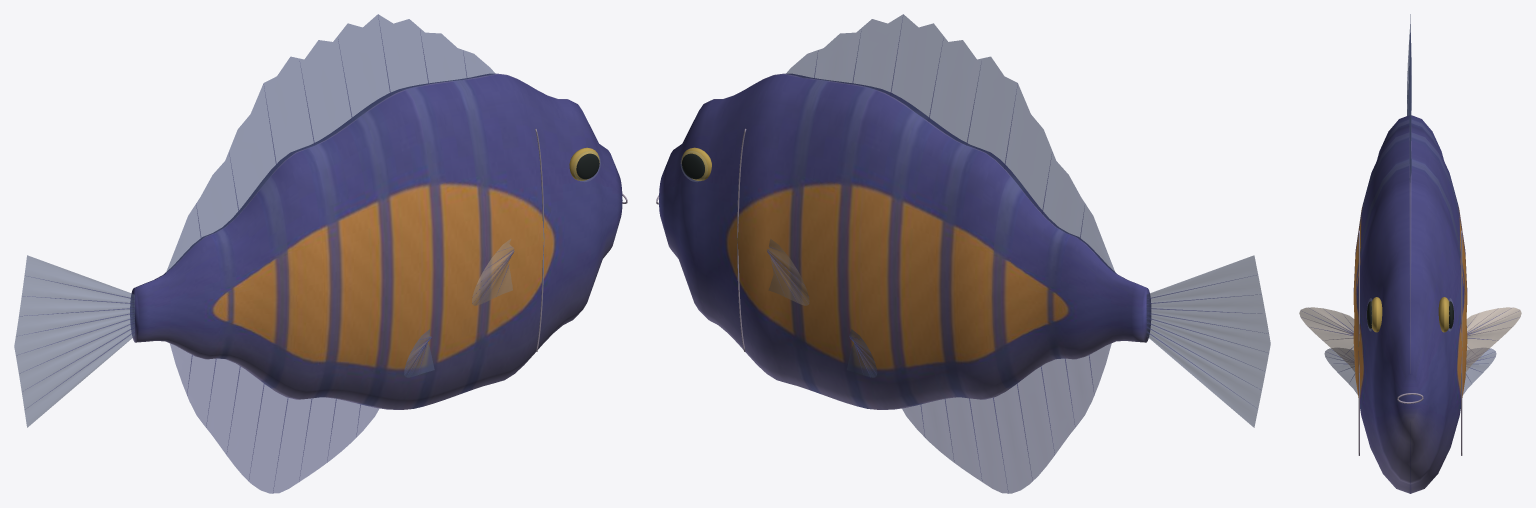
Rendered from beauty-mobile.glb.
The picture shows the model from 3 angles, left to right: view 1: azimuth 30°, elevation 25°; view 2: azimuth 150°, elevation 25°; view 3: azimuth 270°, elevation 25°; orthographic projection.
Parts seen in each view (by area): view 1: skin, dorsal, anal, tail, dorsal-ray, pectoral-left, pelvic-left; view 2: skin, dorsal, anal, tail, dorsal-ray, pectoral-left, pelvic-left; view 3: skin, pectoral-left, pelvic-left, operculum, eye-iris--1, dorsal-ray, dorsal.
Boxes of the visible parts, x1,y1,x2,y2 form: skin: (130,73,622,409); dorsal: (165,14,495,273); anal: (170,343,379,493); tail: (14,255,134,427); dorsal-ray: (17,14,514,492); pectoral-left: (472,239,514,305); pelvic-left: (404,329,434,377); skin: (659,73,1150,409); dorsal: (786,14,1115,273); anal: (902,343,1111,493); tail: (1146,255,1270,427); dorsal-ray: (767,15,1268,493); pectoral-left: (767,239,809,305); pelvic-left: (847,329,877,377); skin: (1353,115,1467,493); pectoral-left: (1299,307,1521,371); pelvic-left: (1324,348,1496,394); operculum: (1358,230,1462,455); eye-iris--1: (1371,297,1449,332); dorsal-ray: (1302,56,1518,381); dorsal: (1409,14,1411,182).
Bounding box in the file's own units: 0.5972 × 0.4264 × 0.1875.
Materials: 11 (1 with a texture image).
